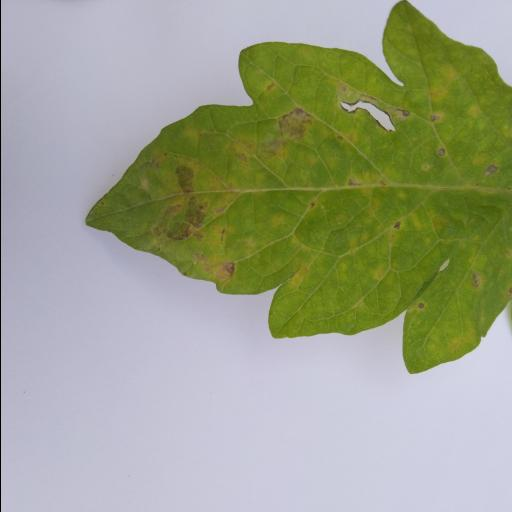disease_tomato: (87, 0, 512, 379)
